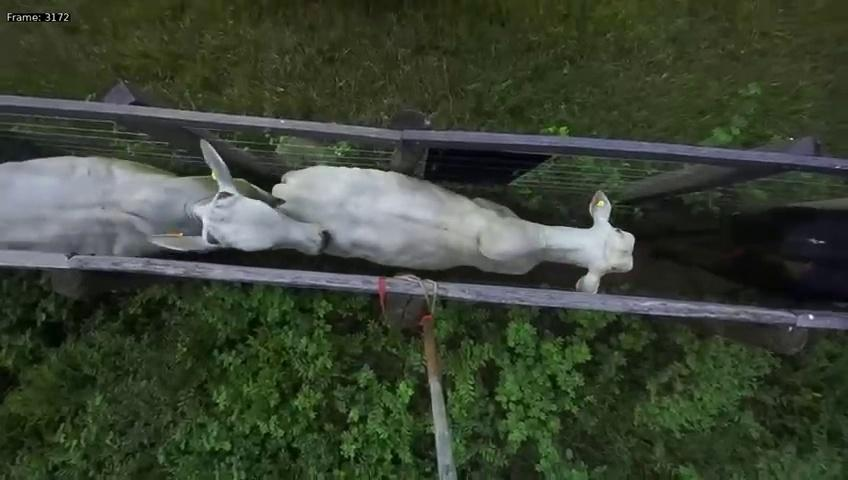cattle: (271, 135, 637, 294), (0, 132, 343, 262)
